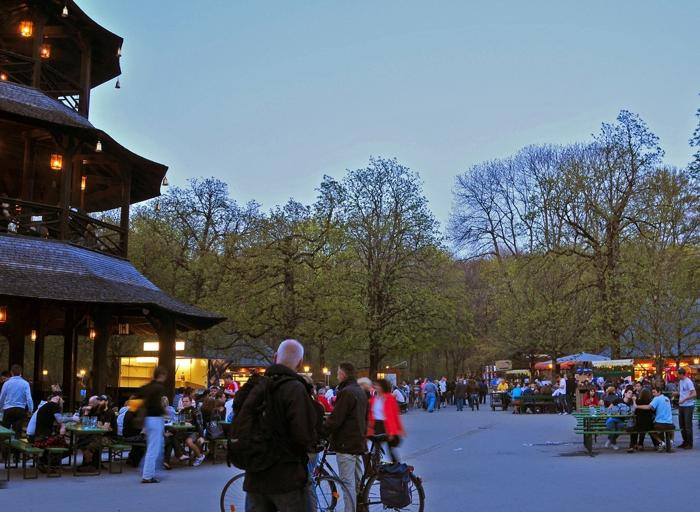non-vehicle: (311, 431, 424, 511), (218, 448, 356, 512)
